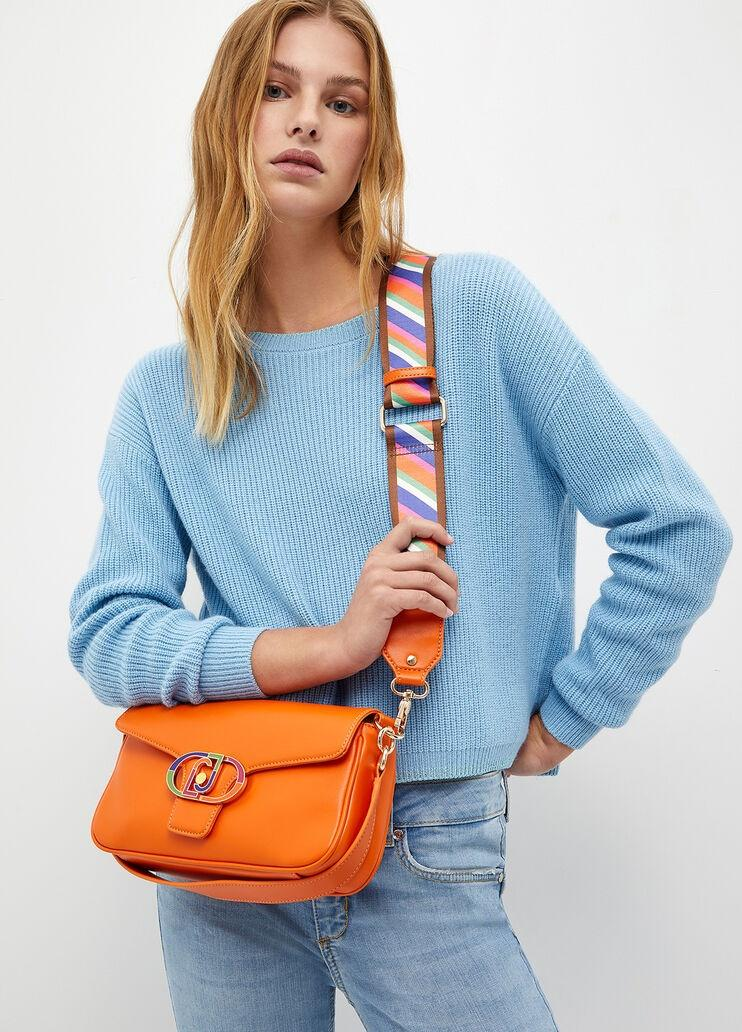LIU-JO: (182, 752, 224, 798)
